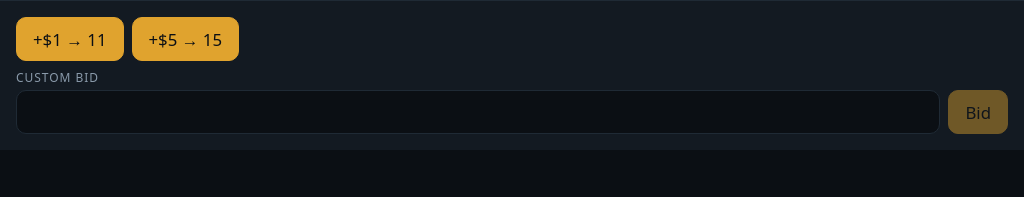
Test case: BidControls › maps EXCEEDS_MAX_BID and NO_ELIGIBLE_SLOT acks to plain copy
Step 1. Click the button "+$5 → 15" → (185, 39), box [132,17,239,61]
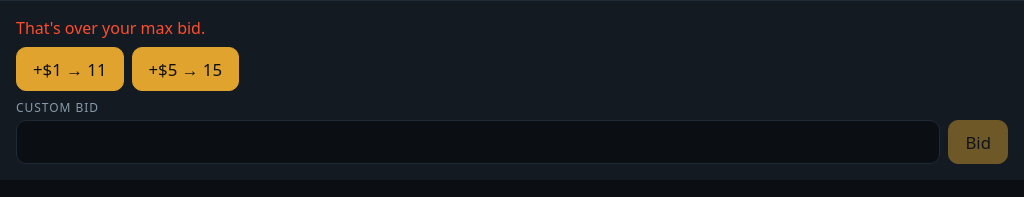
Now the text "That's over your max bid." is shown, box [16,17,205,39]
